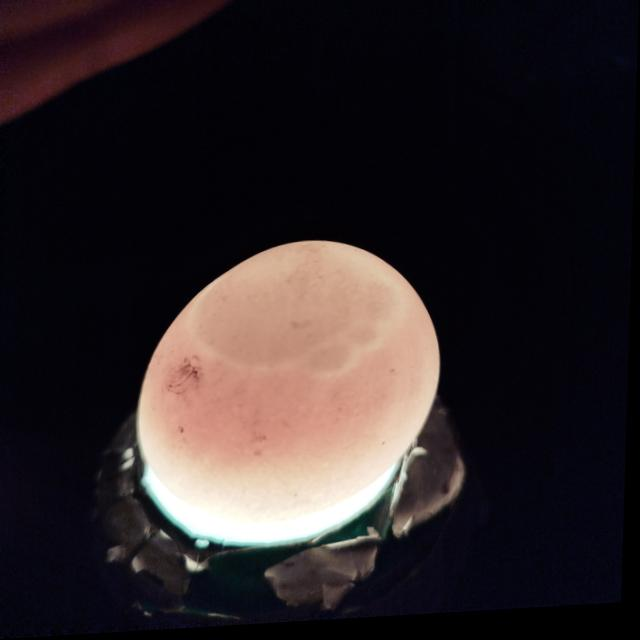Camara de Ar: (188, 245, 407, 383)
